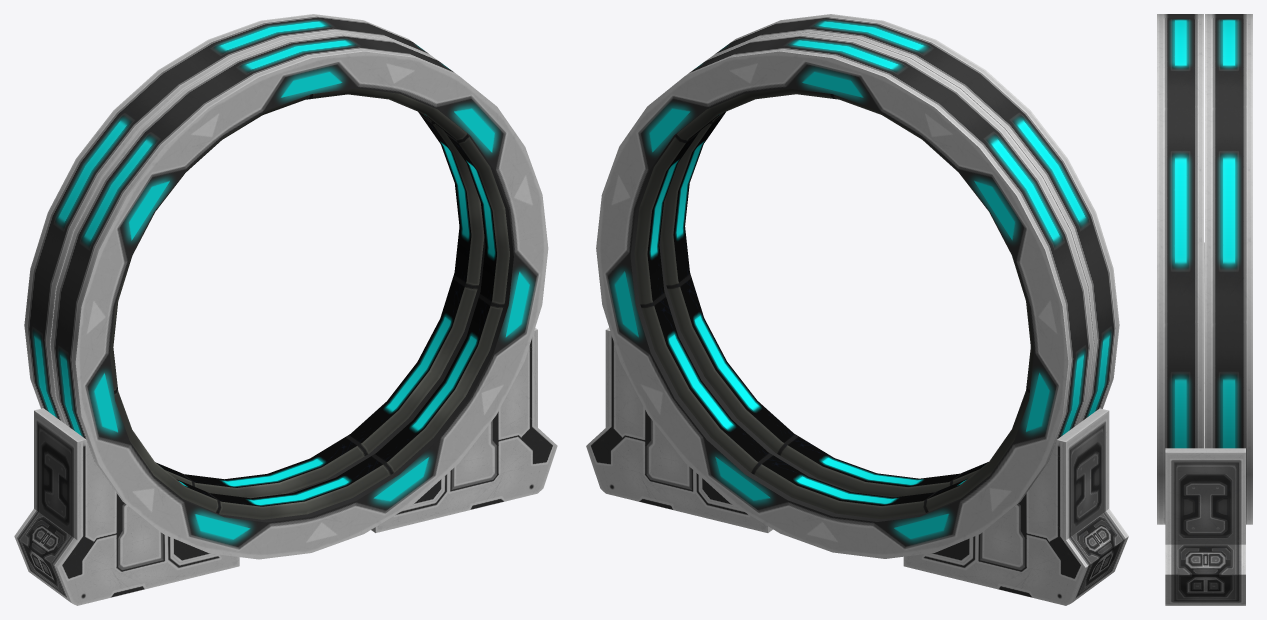
File: uni00_portal_001.fbx
3 views of the same model, side by side, from view 1: azimuth 30°, elevation 25°; view 2: azimuth 150°, elevation 25°; view 3: azimuth 270°, elevation 25° (orthographic). The views are drawn at different scales.
Parts seen in each view (by area): view 1: uni00_portal_001; view 2: uni00_portal_001; view 3: uni00_portal_001.
Boxes of the visible parts, x1=… form: uni00_portal_001: x1=14, y1=14, x2=557, y2=605; uni00_portal_001: x1=586, y1=14, x2=1128, y2=605; uni00_portal_001: x1=1157, y1=14, x2=1252, y2=605.
Bounding box in the file's own units: 211 × 200 × 37.48.
